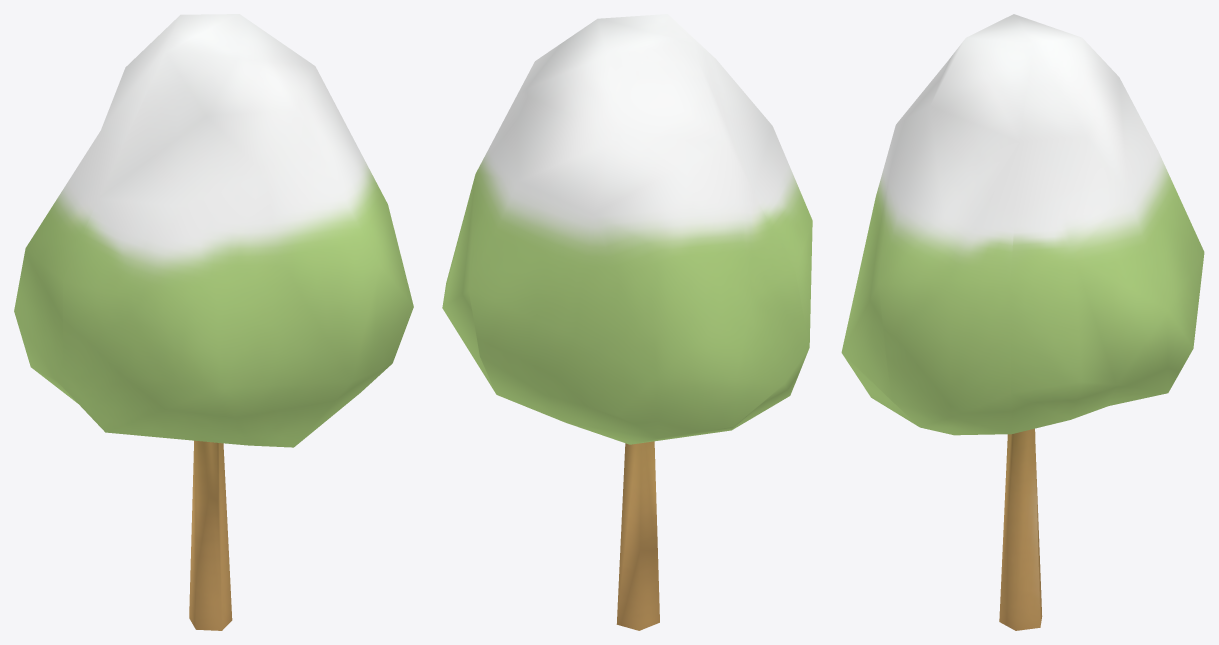
3 renders of one model, left to right at view 1: azimuth 30°, elevation 25°; view 2: azimuth 150°, elevation 25°; view 3: azimuth 270°, elevation 25°, orthographic.
Parts seen in each view (by area): view 1: wListvennoe; view 2: wListvennoe; view 3: wListvennoe.
Boxes of the visible parts, <box> form: wListvennoe: <box>14,14,413,630</box>; wListvennoe: <box>442,14,812,630</box>; wListvennoe: <box>841,14,1204,630</box>.
Size of the model in its own units: 8.72 by 15.37 by 8.5.
Materials: 1 (1 with a texture image).
